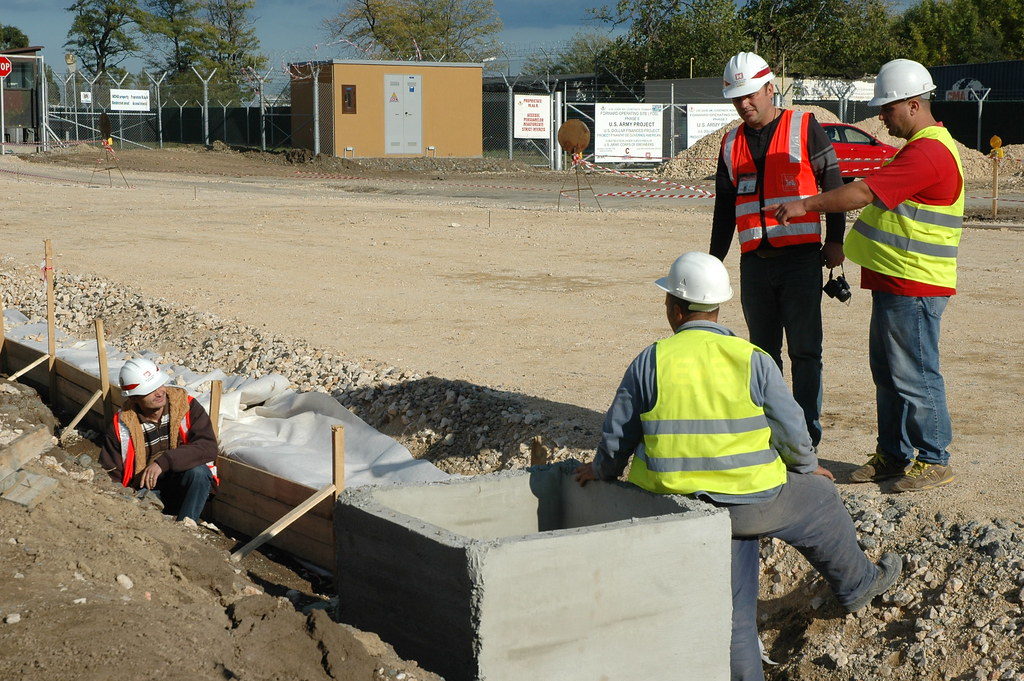Hard Hat: (651, 253, 734, 339), (863, 61, 938, 138), (718, 53, 783, 132), (118, 360, 169, 410)
Person: (611, 256, 861, 620), (718, 56, 835, 455), (853, 63, 955, 492), (102, 360, 222, 519)
Vest: (628, 294, 787, 491), (844, 97, 961, 297), (714, 83, 826, 248), (117, 384, 218, 486)
